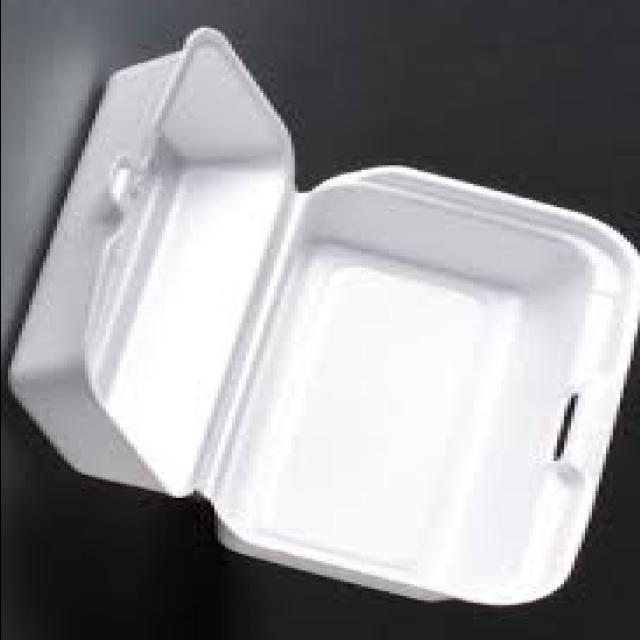styrofoam: (10, 27, 636, 603)
